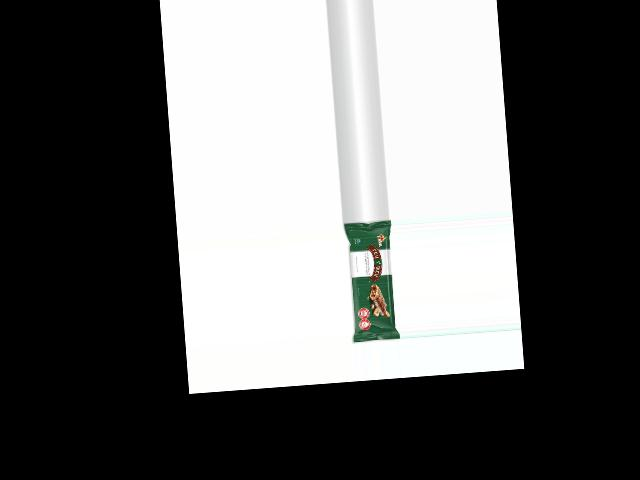chocolate: (341, 218, 399, 343)
